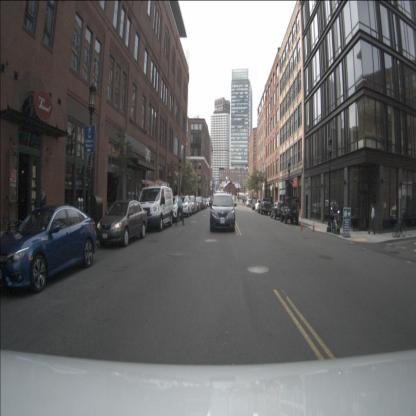cone: (300, 218, 303, 231), (312, 221, 315, 232)
